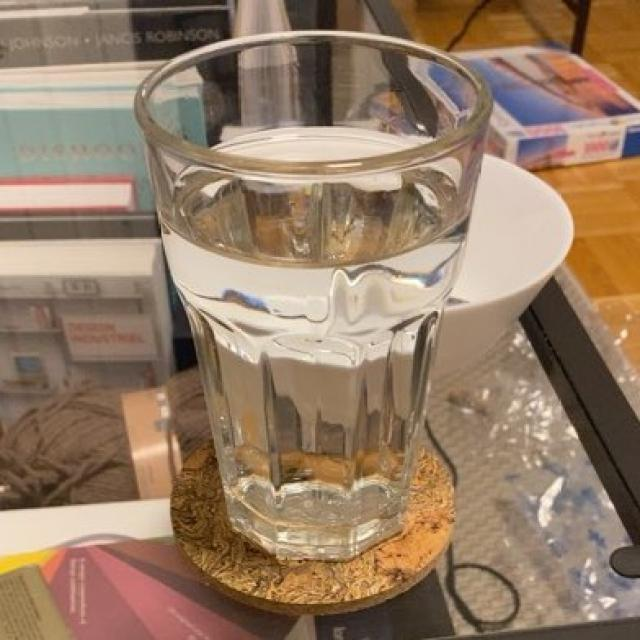water: (156, 145, 441, 537)
